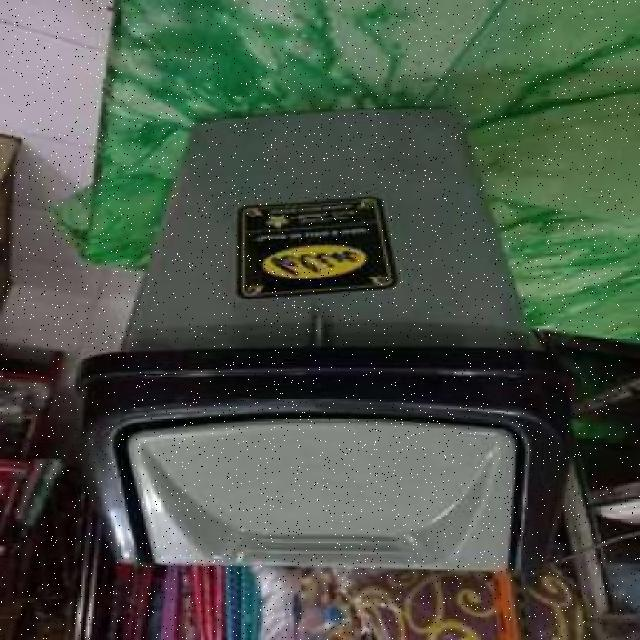garbage container: (64, 88, 583, 577)
